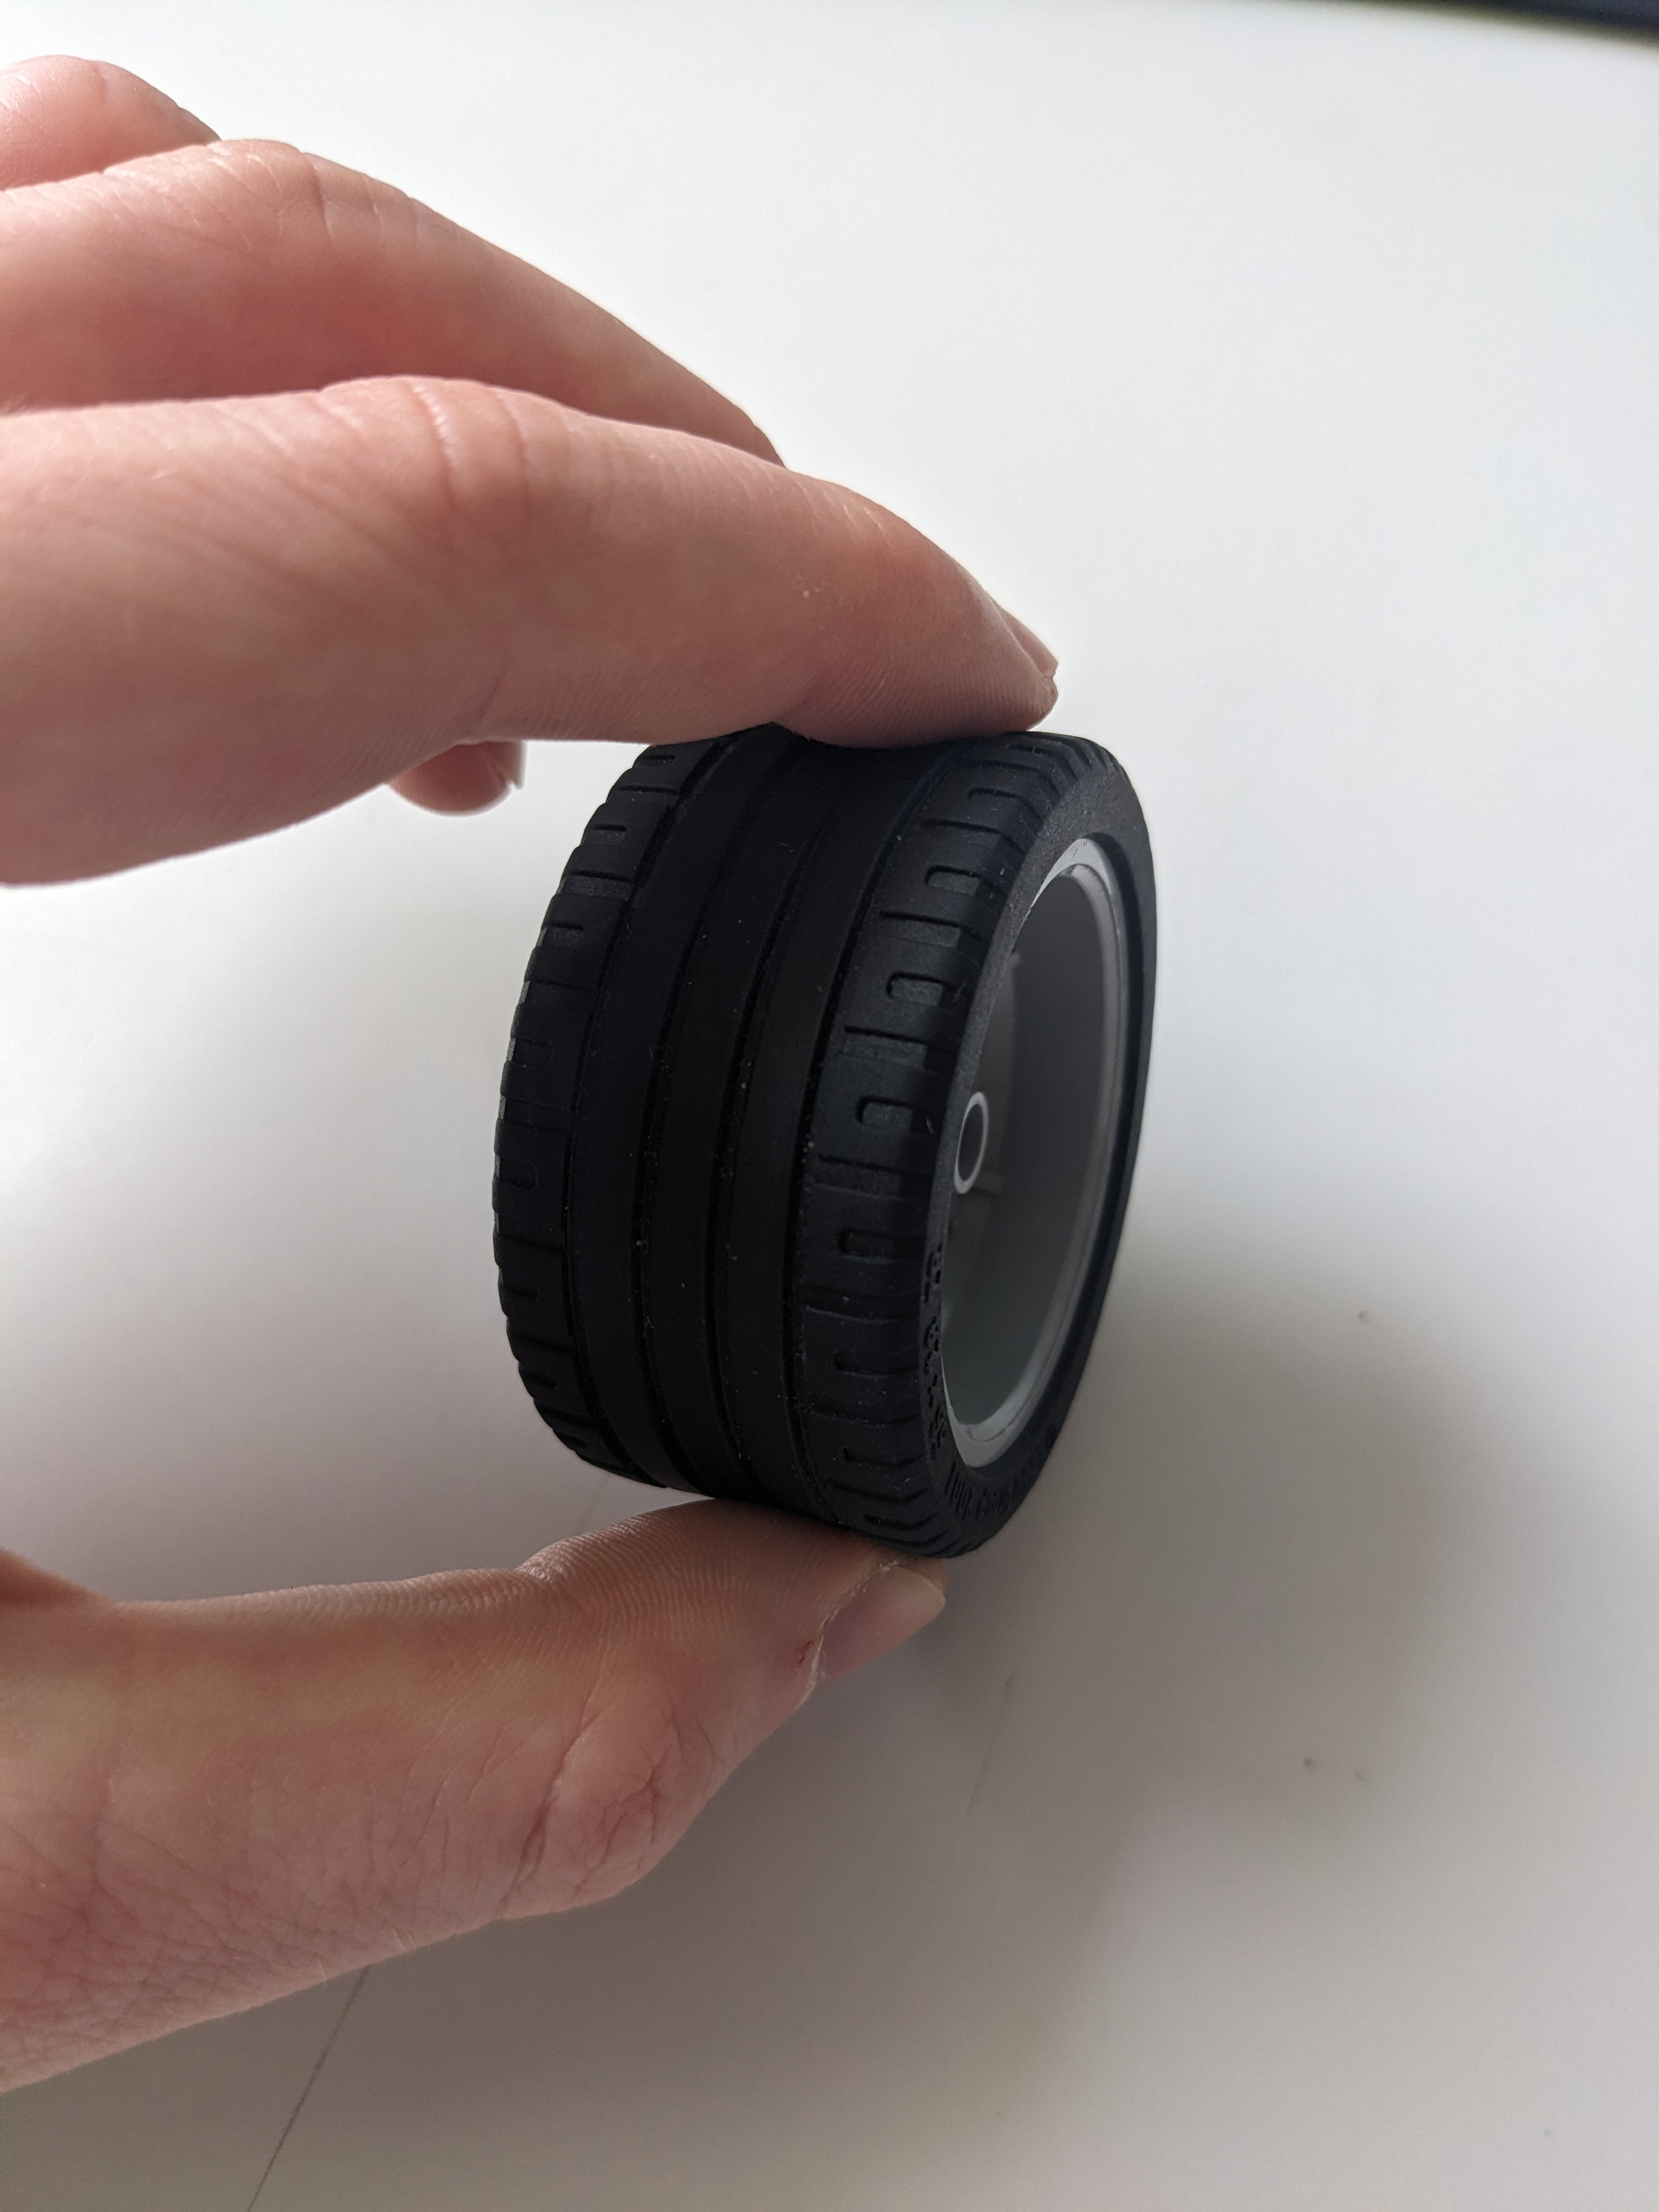Rad: (471, 693, 1180, 1594)
